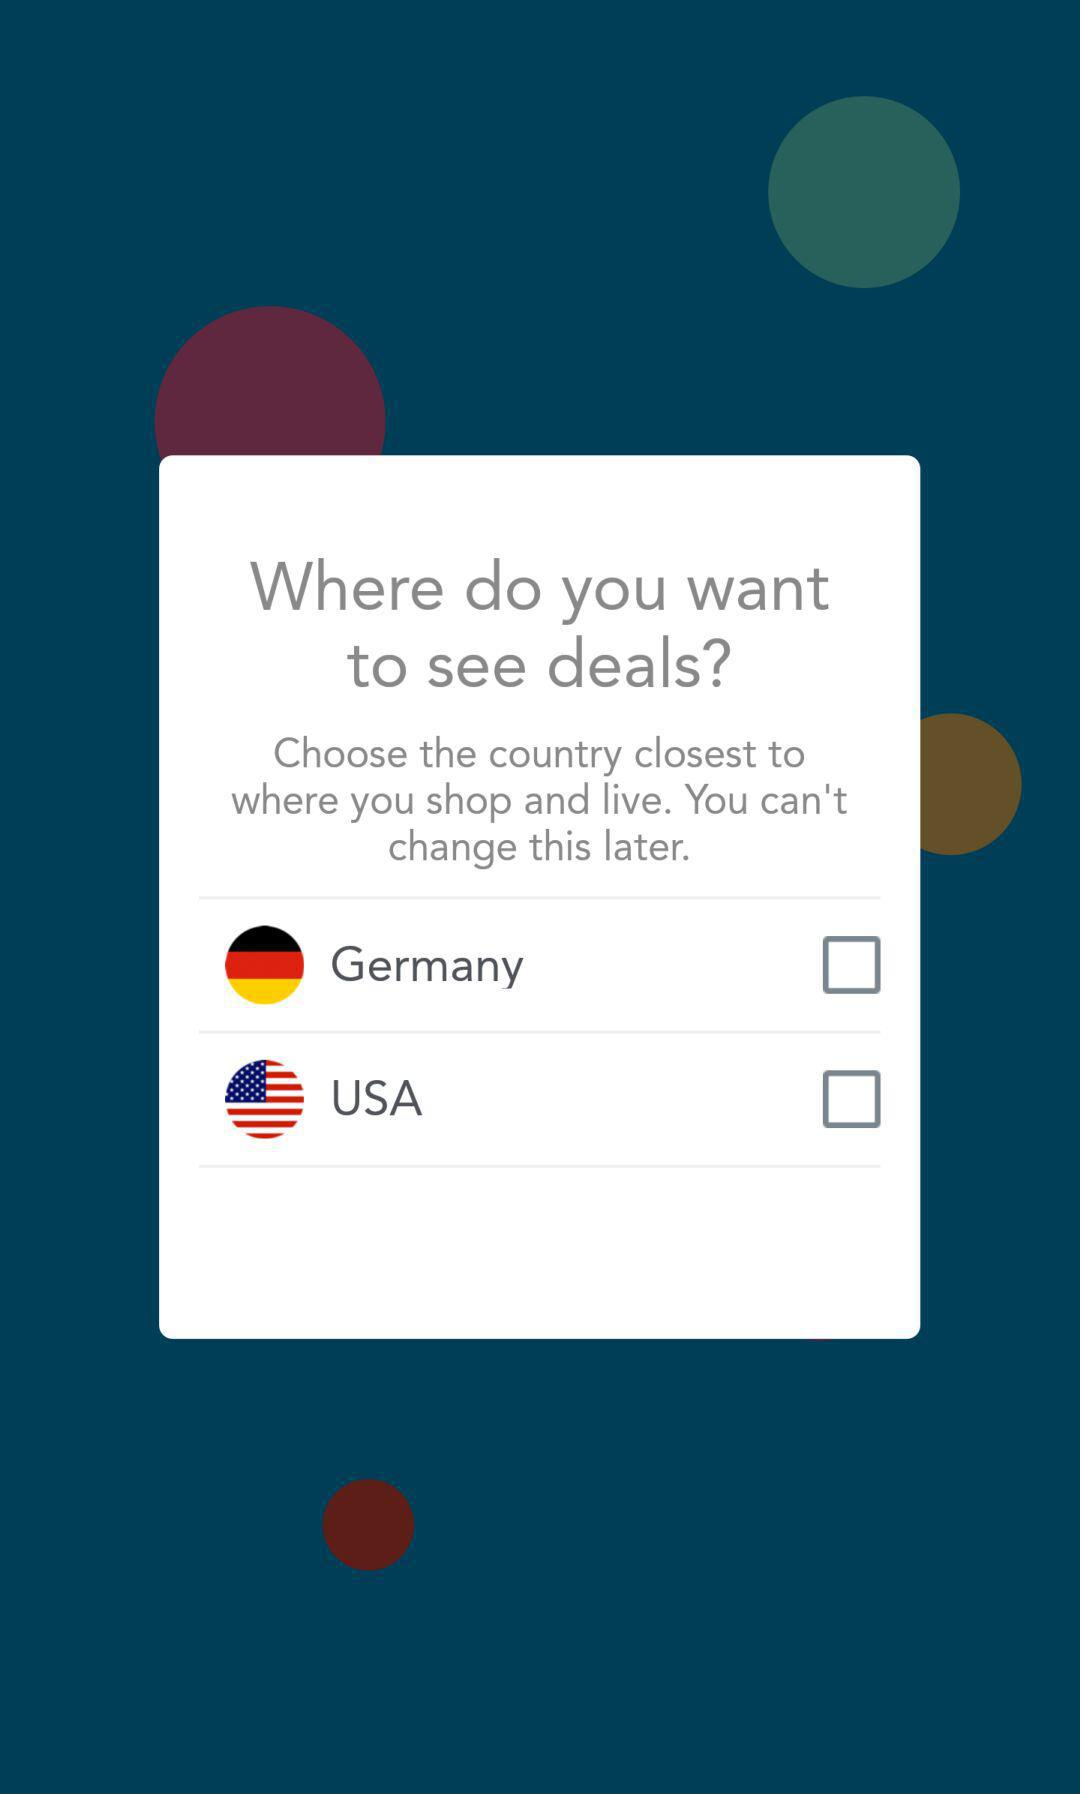CheckedTextView: (332, 935, 881, 994), (333, 1070, 881, 1129)
Image: (225, 1058, 306, 1140), (225, 925, 305, 1005)
Modal: (159, 455, 921, 1340)
Text: (231, 736, 848, 871), (251, 557, 830, 689), (332, 944, 525, 992), (333, 1079, 424, 1117)
